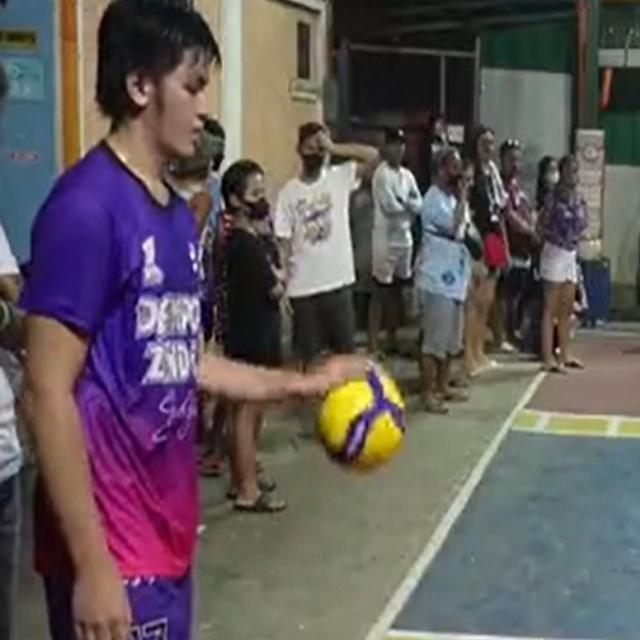volleyball: (316, 362, 406, 471)
